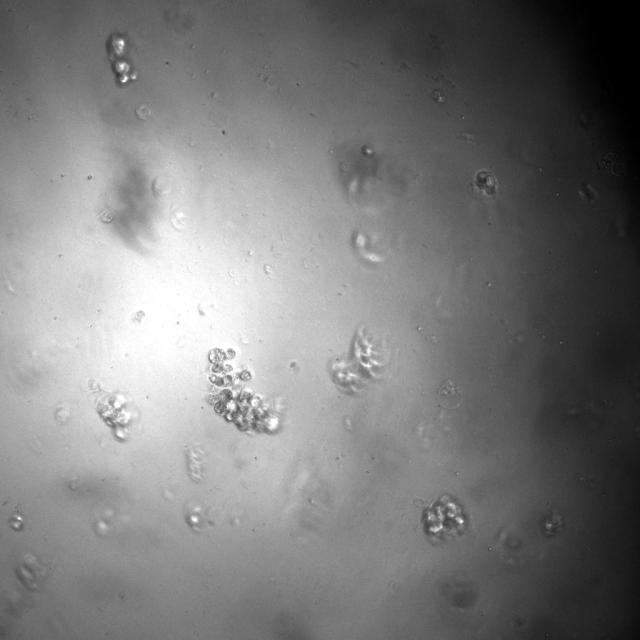organoid: (208, 348, 281, 433), (330, 326, 389, 394), (88, 379, 138, 440), (421, 493, 469, 544), (106, 32, 138, 85), (472, 170, 498, 196)
